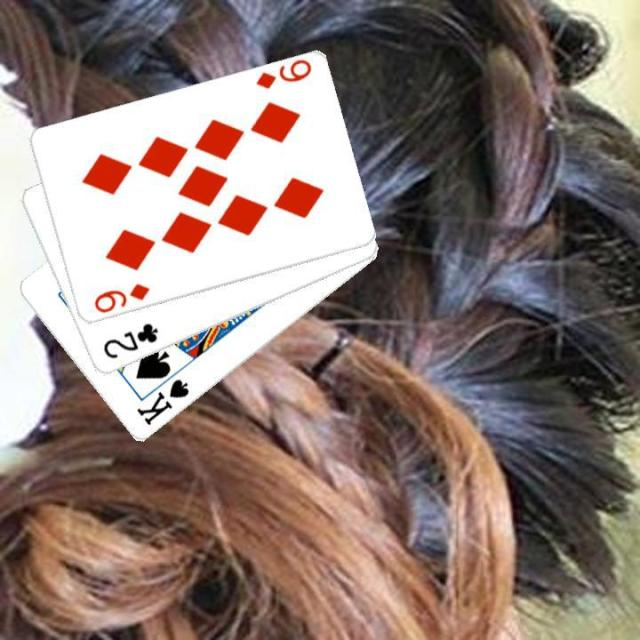2C: (99, 319, 160, 362)
9D: (90, 279, 151, 315), (251, 57, 313, 91)
KS: (133, 375, 191, 429)
